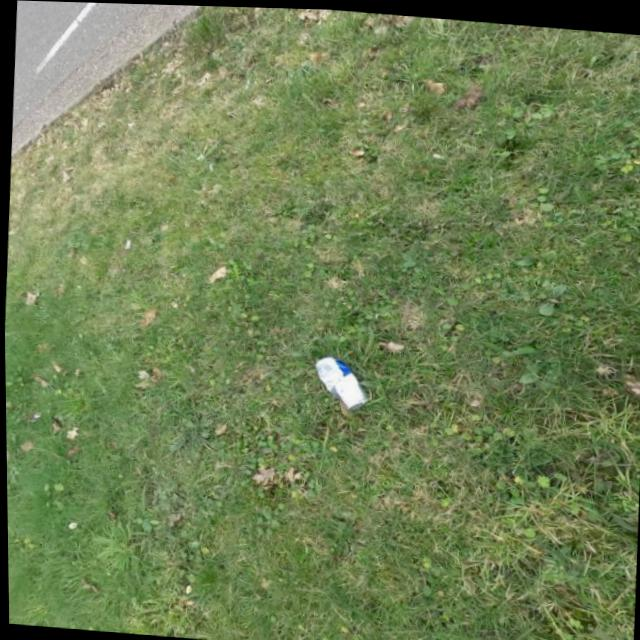Can-Metal: (310, 353, 371, 411)
